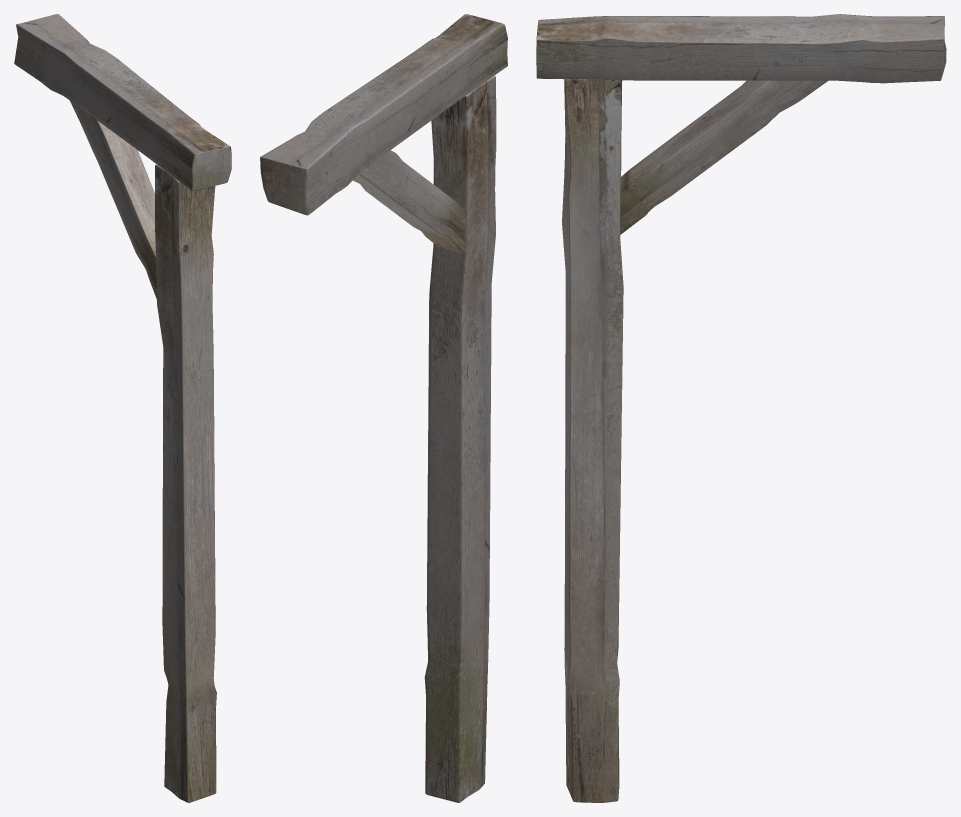
File: SM_Gallows_01_01.fbx
3 views of the same model, side by side, from view 1: azimuth 30°, elevation 25°; view 2: azimuth 150°, elevation 25°; view 3: azimuth 270°, elevation 25° (orthographic). The views are drawn at different scales.
Parts seen in each view (by area): view 1: sm_Gallows_01_01_LOD0; view 2: sm_Gallows_01_01_LOD0; view 3: sm_Gallows_01_01_LOD0.
Part boxes in pixels (box(x1,y1,x2,y2)): sm_Gallows_01_01_LOD0: box(14, 14, 231, 802); sm_Gallows_01_01_LOD0: box(260, 14, 507, 802); sm_Gallows_01_01_LOD0: box(536, 14, 946, 802).
Size of the model in its own units: 164 by 24.53 by 339.
